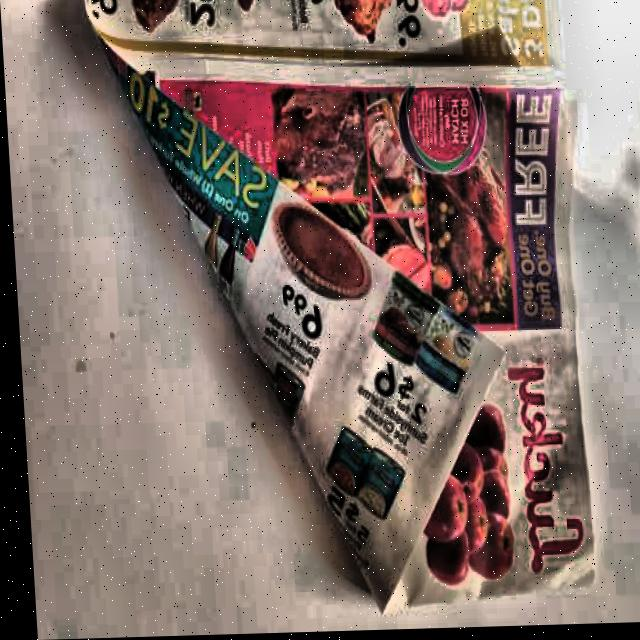paper: (80, 0, 615, 623)
